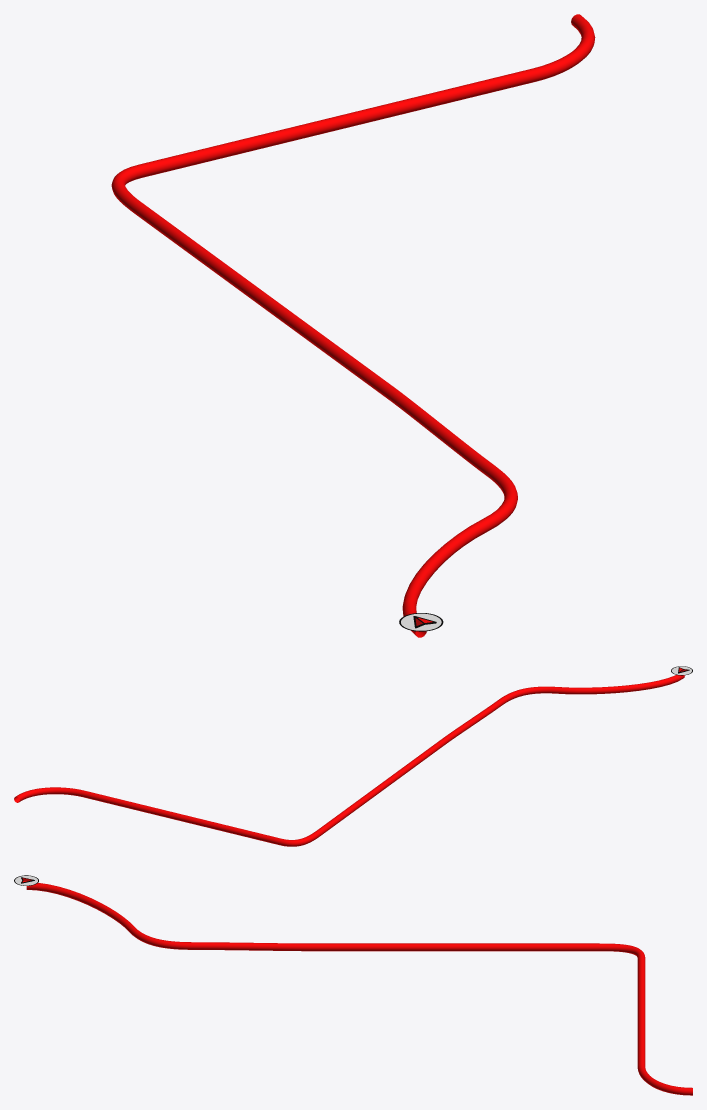
Rendered from route_46ab7c15-7e6b-4020-bc10-ec365be1c5a2_de_single.glb.
3 views of the same model, one above another, from view 1: azimuth 30°, elevation 25°; view 2: azimuth 150°, elevation 25°; view 3: azimuth 270°, elevation 25° (orthographic). The views are drawn at different scales.
Visible parts, largest first — view 1: B5, Abteil 2; view 2: B5, Abteil 2; view 3: B5, Abteil 2.
Boxes of the visible parts, x1,y1,x2,y2 form: B5, Abteil 2: [111, 14, 595, 637]; B5, Abteil 2: [14, 675, 684, 846]; B5, Abteil 2: [26, 883, 692, 1095].
Size of the model in its own units: 5.19 by 0.1062 by 7.
